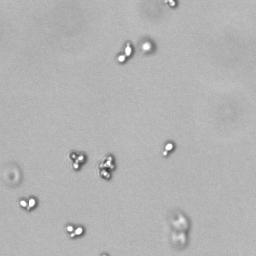budding: (115, 39, 135, 64), (15, 195, 40, 212), (62, 221, 87, 238), (160, 139, 176, 158)
cluster: (94, 150, 118, 183), (66, 143, 90, 176)
